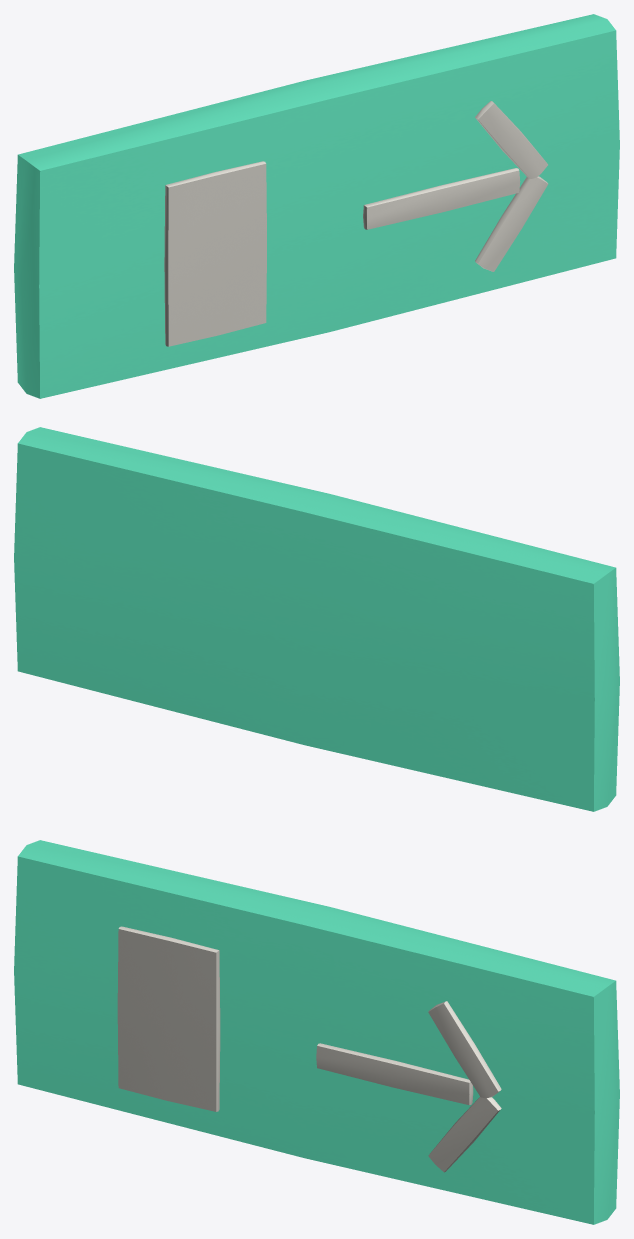
Rendered from exit-sign.glb.
3 views of the same model, one above another, from view 1: azimuth 30°, elevation 25°; view 2: azimuth 150°, elevation 25°; view 3: azimuth 330°, elevation 25° (orthographic).
Visible parts, largest first — view 1: exit-sign; view 2: exit-sign; view 3: exit-sign.
Boxes of the visible parts, x1,y1,x2,y2 form: exit-sign: (14,14,619,398); exit-sign: (14,427,619,811); exit-sign: (14,840,619,1224).
Size of the model in its own units: 0.38 by 0.15 by 0.0465.
5 materials, 5 textured.
